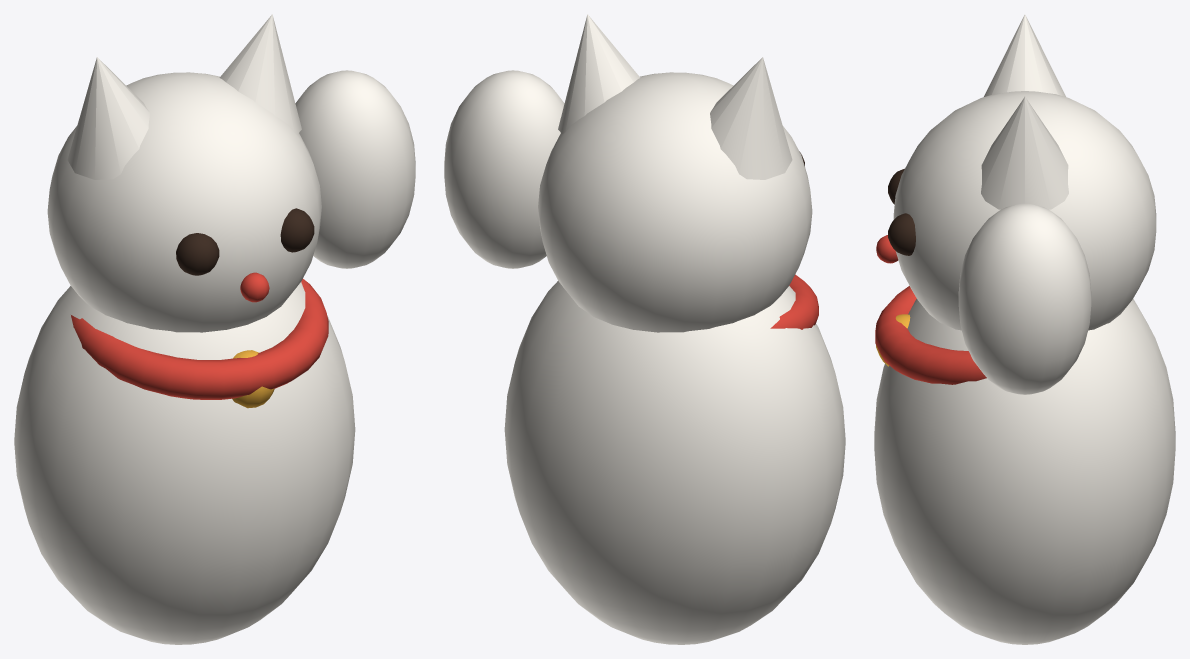
Rendered from wok_prop_lucky_cat.glb.
The picture shows the model from 3 angles, left to right: view 1: azimuth 30°, elevation 25°; view 2: azimuth 150°, elevation 25°; view 3: azimuth 270°, elevation 25°; orthographic projection. The views are drawn at different scales.
Size of the model in its own units: 0.173 by 0.2643 by 0.1251.
